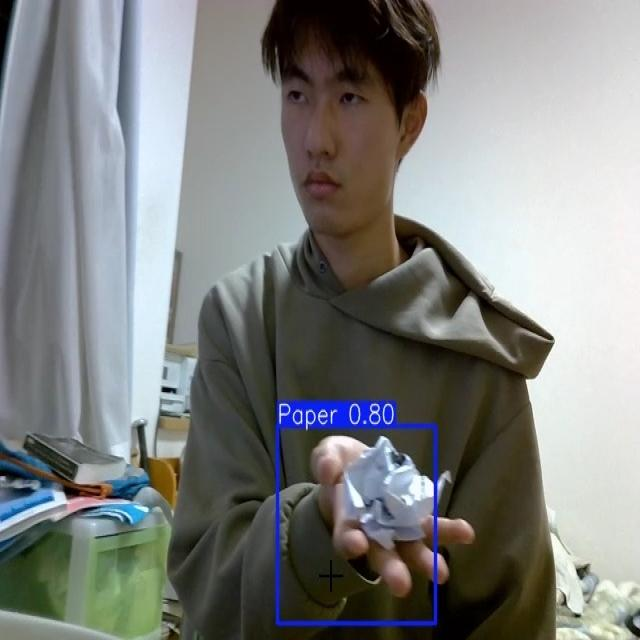paper: (340, 434, 447, 550)
